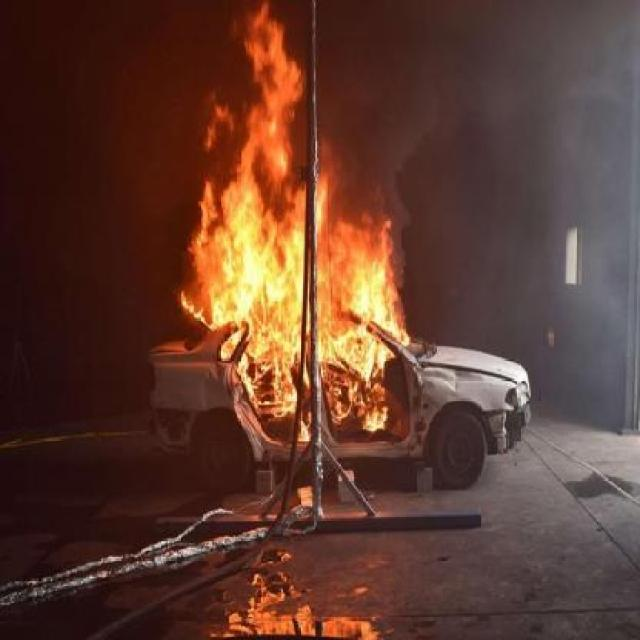Fire: (165, 130, 458, 446)
